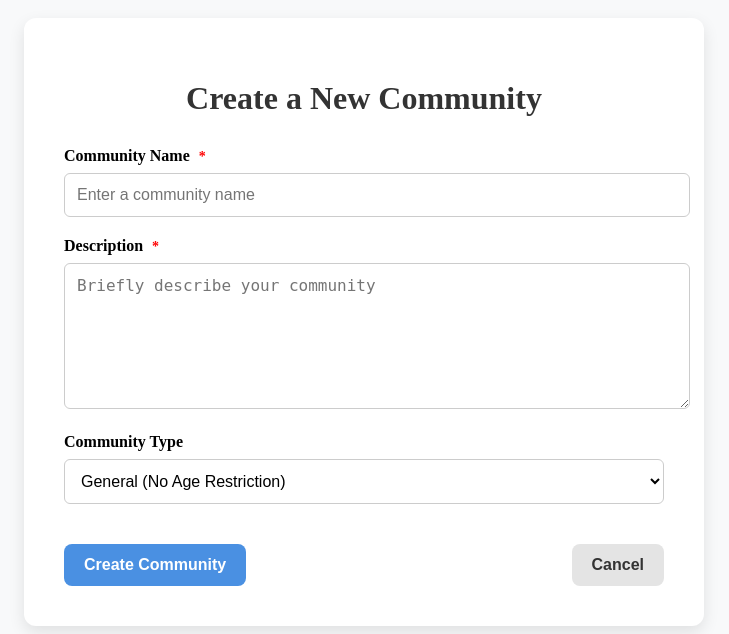
Test case: CreateCommunity Component › shows loading state while creating community
Type "Test Community" into the field labelled "Community Name *" at (377, 195), box x1=64 y1=173 x2=690 y2=217
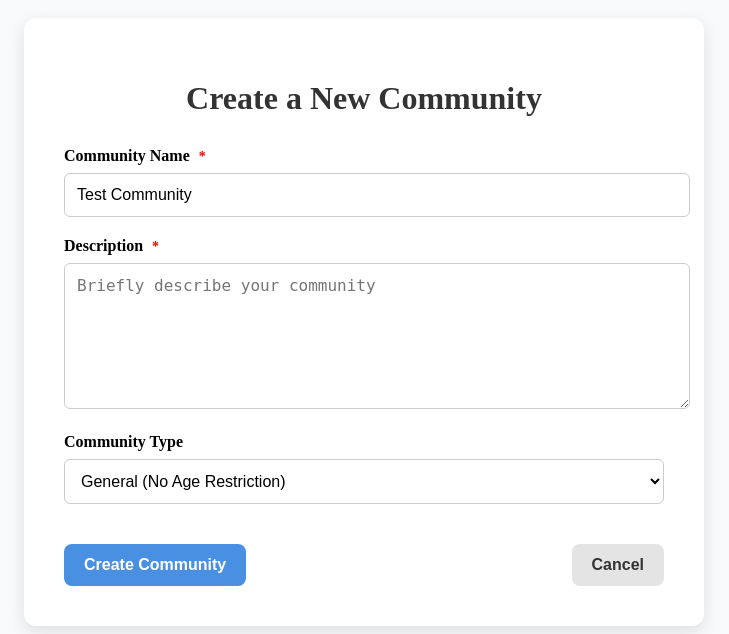
Type "Test Description" into the text box labelled "Description *" at (377, 336), box x1=64 y1=263 x2=690 y2=409
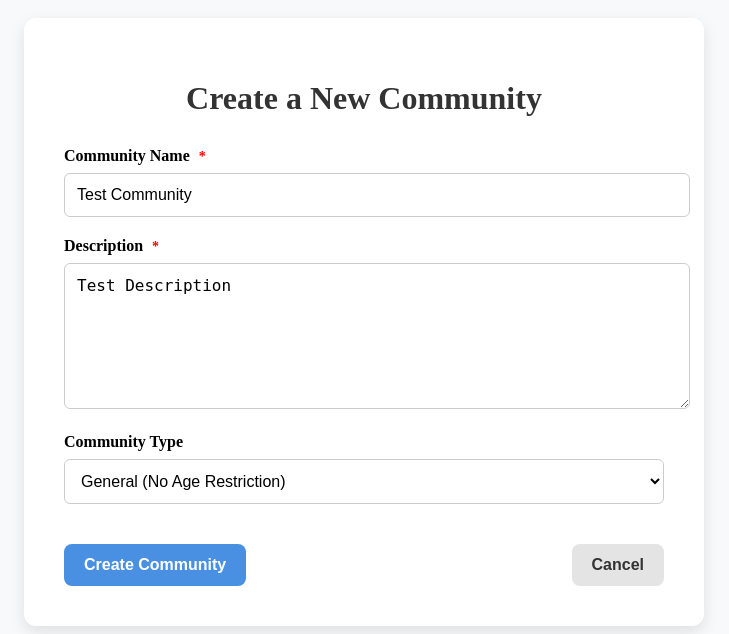
Click the button "Create Community" at (155, 565), box x1=64 y1=544 x2=246 y2=586
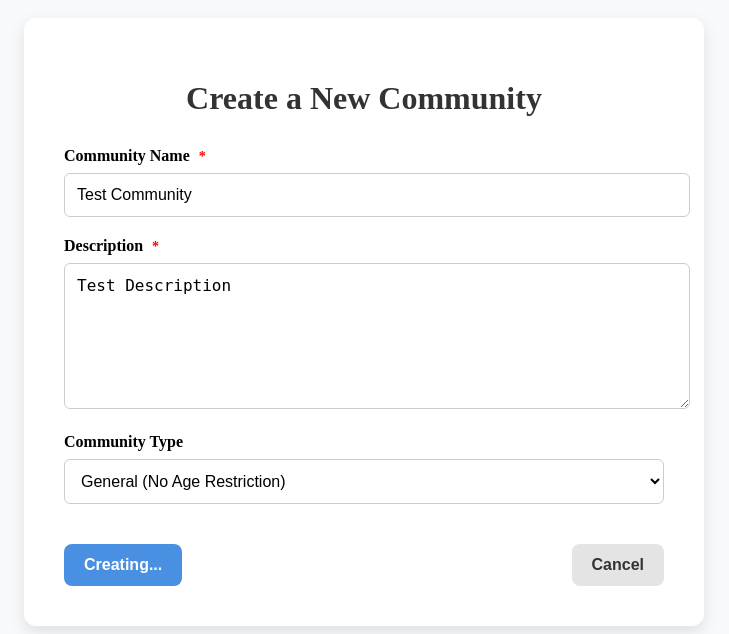
expect the button "Creating..." is shown: met, box x1=64 y1=544 x2=182 y2=586
